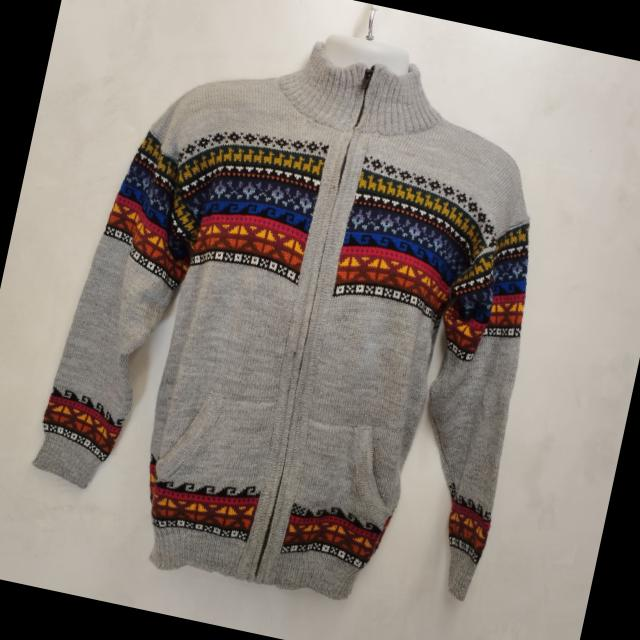Chompa: (15, 0, 582, 633)
